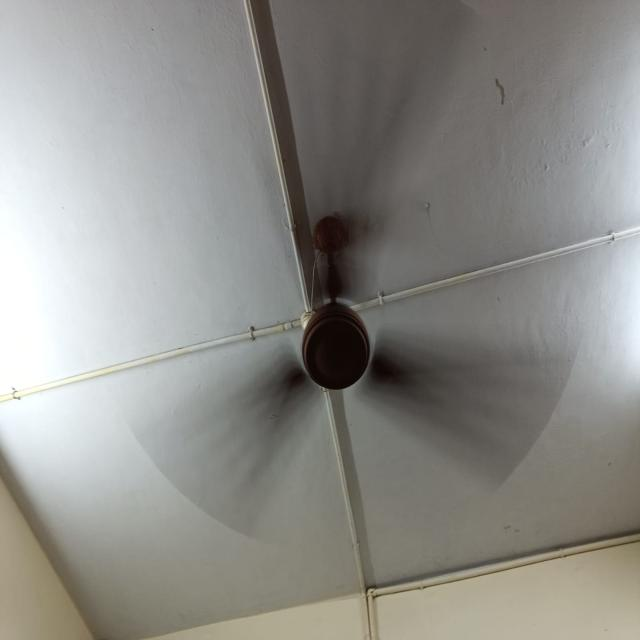fan_on: (90, 2, 607, 556)
